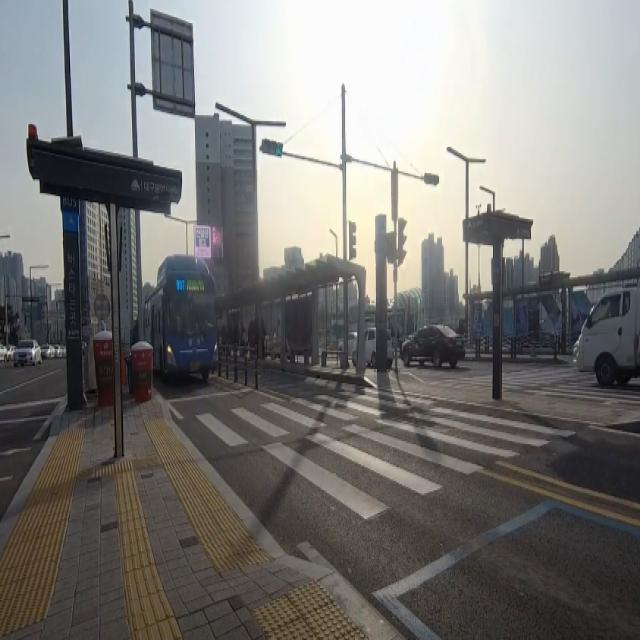bus-number: (176, 278, 185, 292)
